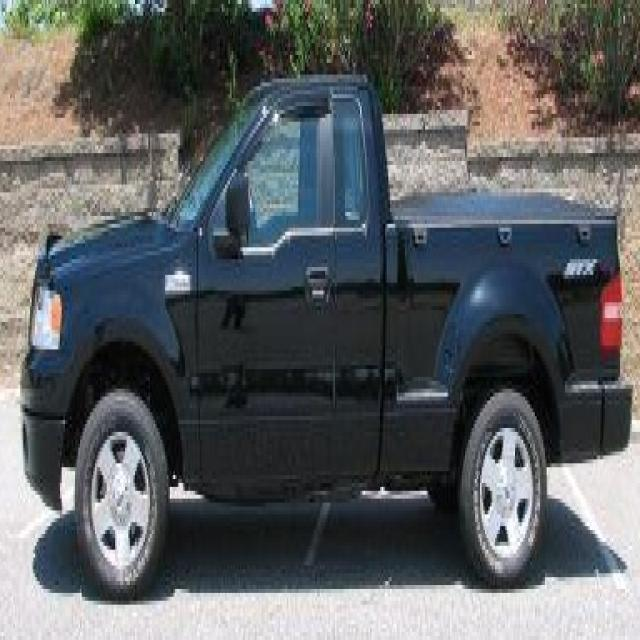CMT: (35, 66, 637, 579)
